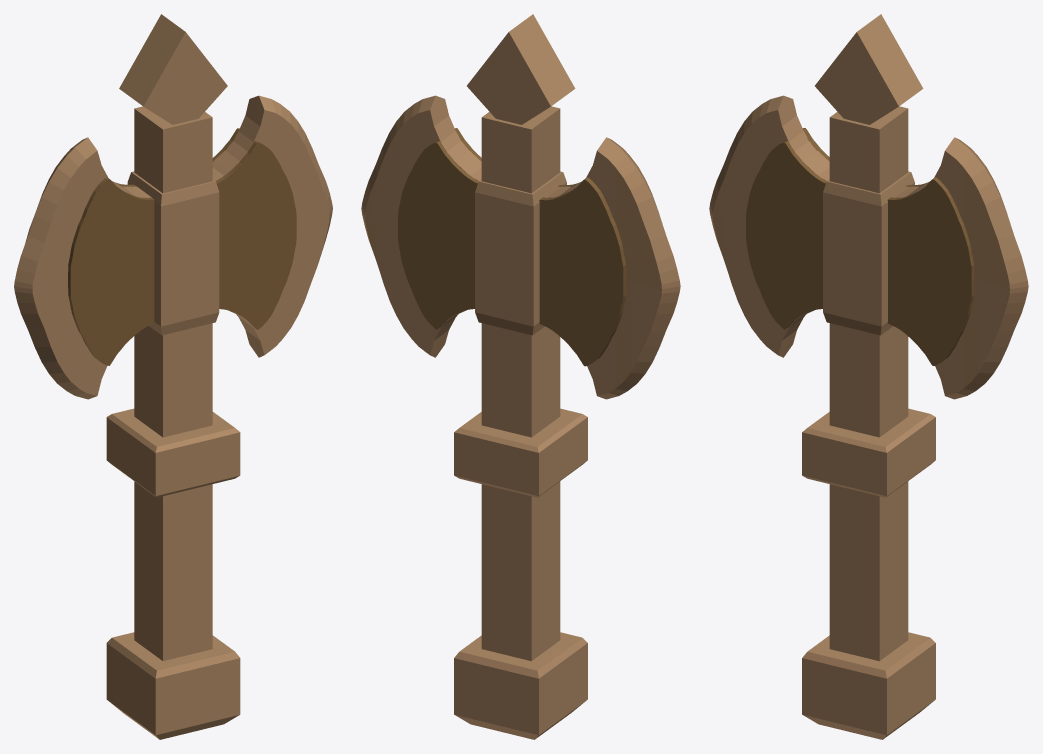
Rendered from HachaCarton.fbx.
3 renders of one model, left to right at view 1: azimuth 30°, elevation 25°; view 2: azimuth 150°, elevation 25°; view 3: azimuth 330°, elevation 25°, orthographic.
Visible parts, largest first — view 1: MangoPrincipal, FiloI, FiloCafeDelanteI, FiiloCafeAdelanteD, BaseAbajo, FiloD, SoporteSuperior, SoporteIntermedio, PicoArriba; view 2: MangoPrincipal, FiloI, FiloCafeAtrasI, FiloCafeAtrasD, BaseAbajo, FiloD, SoporteSuperior, SoporteIntermedio, PicoArriba; view 3: MangoPrincipal, FiloD, FiiloCafeAdelanteD, FiloCafeDelanteI, BaseAbajo, FiloI, SoporteSuperior, SoporteIntermedio, PicoArriba.
Boxes of the visible parts, box(x1,y1,x2,y2) form: MangoPrincipal: box(134, 106, 212, 660); FiloI: box(14, 137, 151, 399); FiloCafeDelanteI: box(68, 177, 154, 365); FiiloCafeAdelanteD: box(215, 141, 296, 329); BaseAbajo: box(106, 632, 240, 739); FiloD: box(212, 95, 332, 357); SoporteSuperior: box(127, 171, 219, 335); SoporteIntermedio: box(106, 408, 240, 497); PicoArriba: box(119, 14, 227, 124); MangoPrincipal: box(481, 106, 560, 661); FiloI: box(542, 137, 680, 399); FiloCafeAtrasI: box(539, 177, 626, 366); FiloCafeAtrasD: box(398, 141, 478, 329); BaseAbajo: box(454, 632, 587, 739); FiloD: box(361, 95, 481, 357); SoporteSuperior: box(475, 171, 566, 335); SoporteIntermedio: box(454, 408, 587, 497); PicoArriba: box(467, 14, 575, 124); MangoPrincipal: box(829, 106, 908, 661); FiloD: box(890, 137, 1028, 399); FiiloCafeAdelanteD: box(887, 177, 974, 365); FiloCafeDelanteI: box(746, 141, 826, 329); BaseAbajo: box(802, 632, 935, 739); FiloI: box(709, 95, 829, 357); SoporteSuperior: box(823, 171, 914, 335); SoporteIntermedio: box(802, 408, 935, 497); PicoArriba: box(815, 14, 923, 124).
Bounding box in the file's own units: 756 × 1574 × 201.
